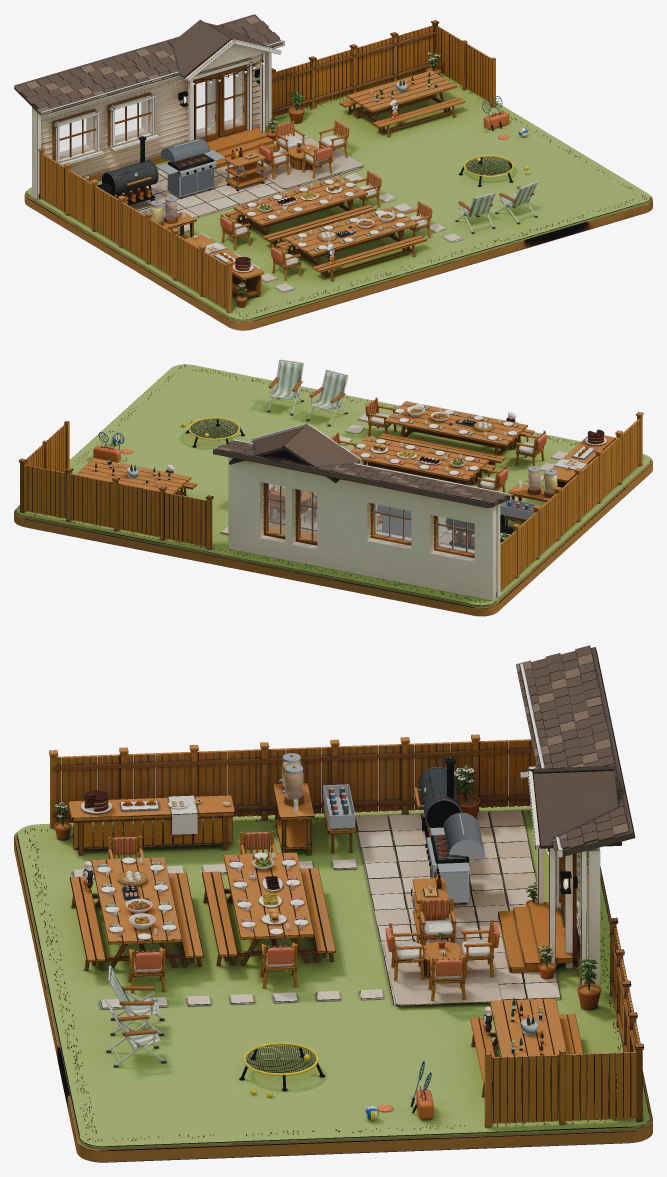
The model's file is garden.glb.
3 renders of one model, top to bottom at view 1: azimuth 30°, elevation 25°; view 2: azimuth 150°, elevation 25°; view 3: azimuth 270°, elevation 25°, orthographic. The views are drawn at different scales.
Parts seen in each view (by area): view 1: Baked garden architecture, Baked garden details, Live glass and reflective metal; view 2: Baked garden architecture, Baked garden details, Live glass and reflective metal; view 3: Baked garden architecture, Baked garden details, Live glass and reflective metal.
Boxes of the visible parts, x1,y1,x2,y2 form: Baked garden architecture: [14, 14, 652, 330]; Baked garden details: [14, 16, 537, 307]; Live glass and reflective metal: [60, 70, 509, 263]; Baked garden architecture: [14, 360, 652, 616]; Baked garden details: [18, 359, 643, 550]; Live glass and reflective metal: [96, 390, 595, 553]; Baked garden architecture: [14, 647, 652, 1162]; Baked garden details: [49, 645, 644, 1120]; Live glass and reflective metal: [100, 753, 564, 1105].
Bounding box in the file's own units: 21.69 × 5.58 × 16.86.
12 materials, 2 textured.
